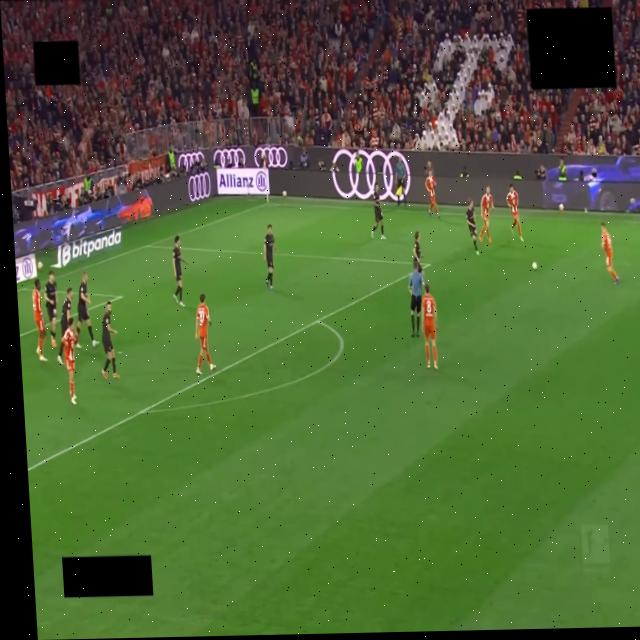ball: (532, 262, 537, 270)
player: (60, 316, 82, 406), (76, 272, 98, 349), (195, 294, 215, 374), (102, 302, 119, 378), (422, 285, 437, 368), (57, 287, 73, 364), (32, 280, 46, 361), (172, 236, 187, 307), (601, 222, 618, 284), (44, 271, 57, 348), (506, 184, 523, 242), (263, 224, 276, 290), (465, 198, 479, 256), (480, 186, 494, 242), (372, 184, 385, 239), (425, 171, 439, 218), (413, 231, 423, 273)
referee: (409, 261, 423, 336)
